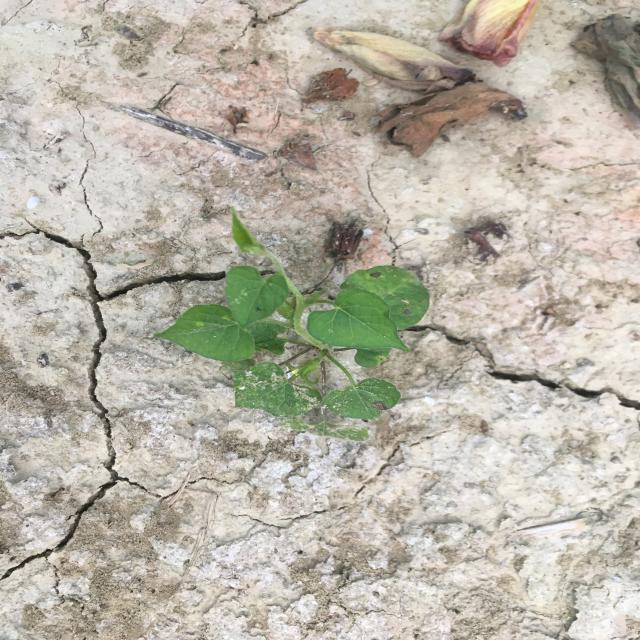MorningGlory: (150, 206, 433, 444)
